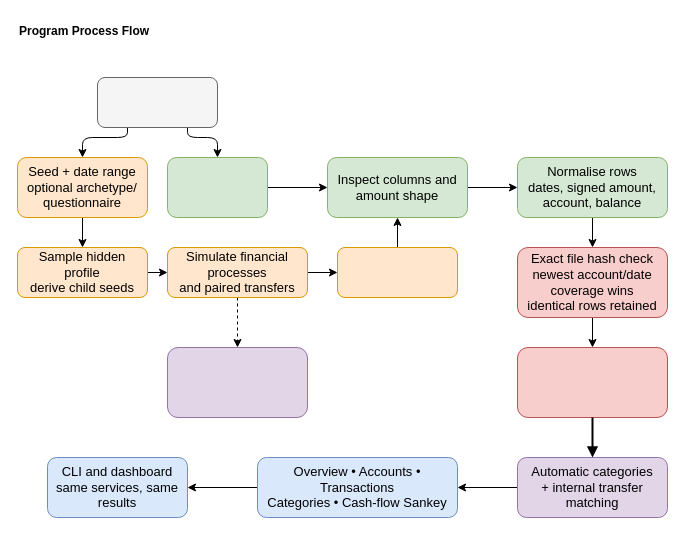
Some shapes in this 685 by 535 pixel diagram are drawn without their labels. Here are the shapes that lost their labels. From the top down, the centre of each, then its label:
At point 157,102: "Start select/create user profile".
At point 217,187: "CSV bank statement".
At point 397,272: "Render varied statement CSVs".
At point 237,382: "Private synthetic ground truth future Phase 6 benchmark only".
At point 592,382: "Canonical active dataset with superseded provenance".
